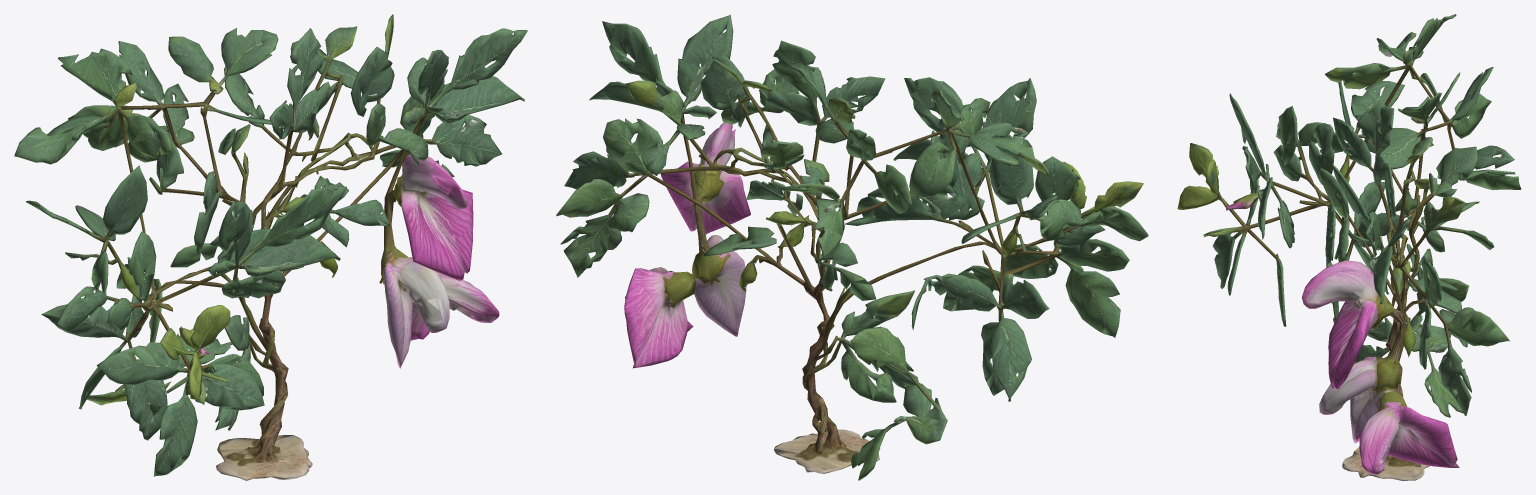
The model's file is planta_2.fbx.
The picture shows the model from 3 angles, left to right: view 1: azimuth 30°, elevation 25°; view 2: azimuth 150°, elevation 25°; view 3: azimuth 270°, elevation 25°; orthographic projection. The views are drawn at different scales.
Visible parts, largest first — view 1: tripo_node_324587af; view 2: tripo_node_324587af; view 3: tripo_node_324587af.
Boxes of the visible parts, x1=… form: tripo_node_324587af: x1=14, y1=14, x2=527, y2=480; tripo_node_324587af: x1=556, y1=14, x2=1148, y2=480; tripo_node_324587af: x1=1177, y1=14, x2=1521, y2=480.
Bounding box in the file's own units: 11.45 × 8.93 × 7.21.
1 material, 1 textured.
